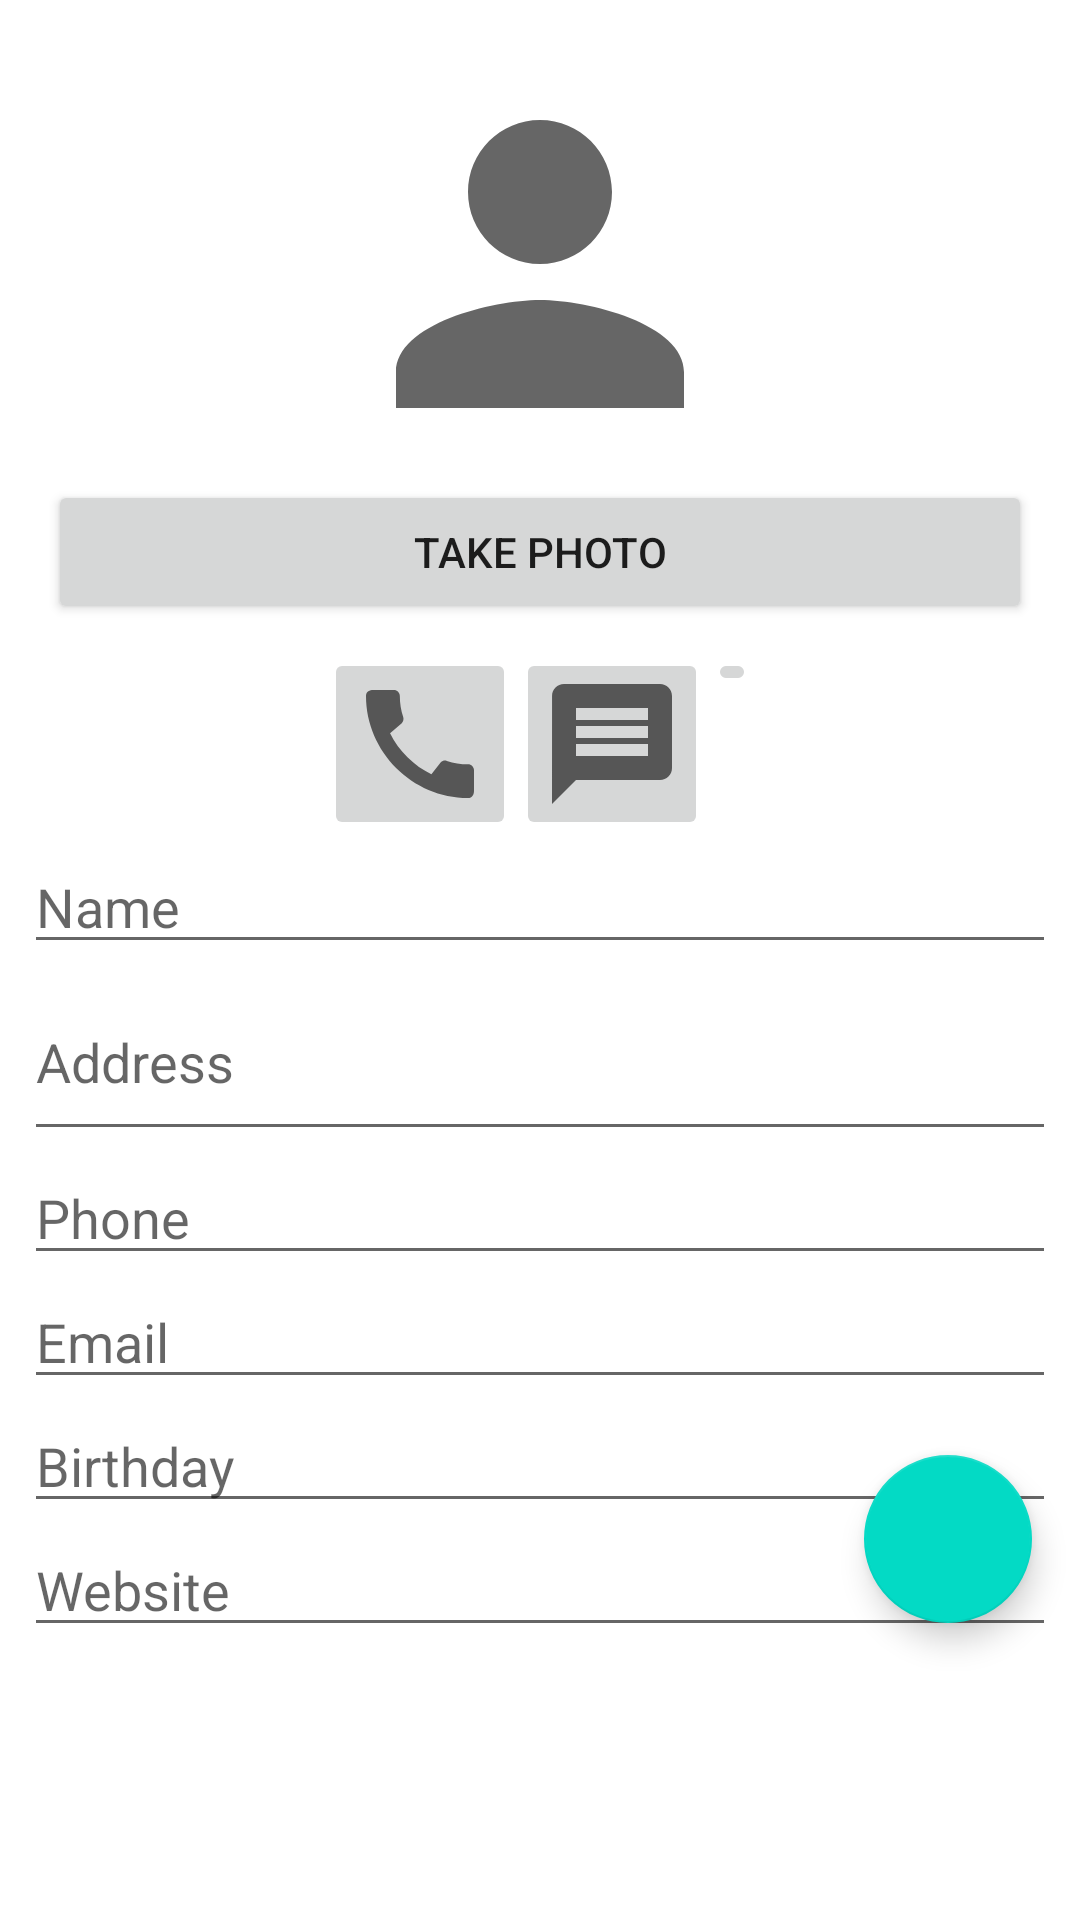

Locate icon controls on the screen. Image size 1080×1920, boxes as bbox=(x1, y1, x2, y2).
call: bbox=(336, 666, 504, 822)
message: bbox=(528, 666, 696, 822)
person: bbox=(396, 120, 684, 408)
